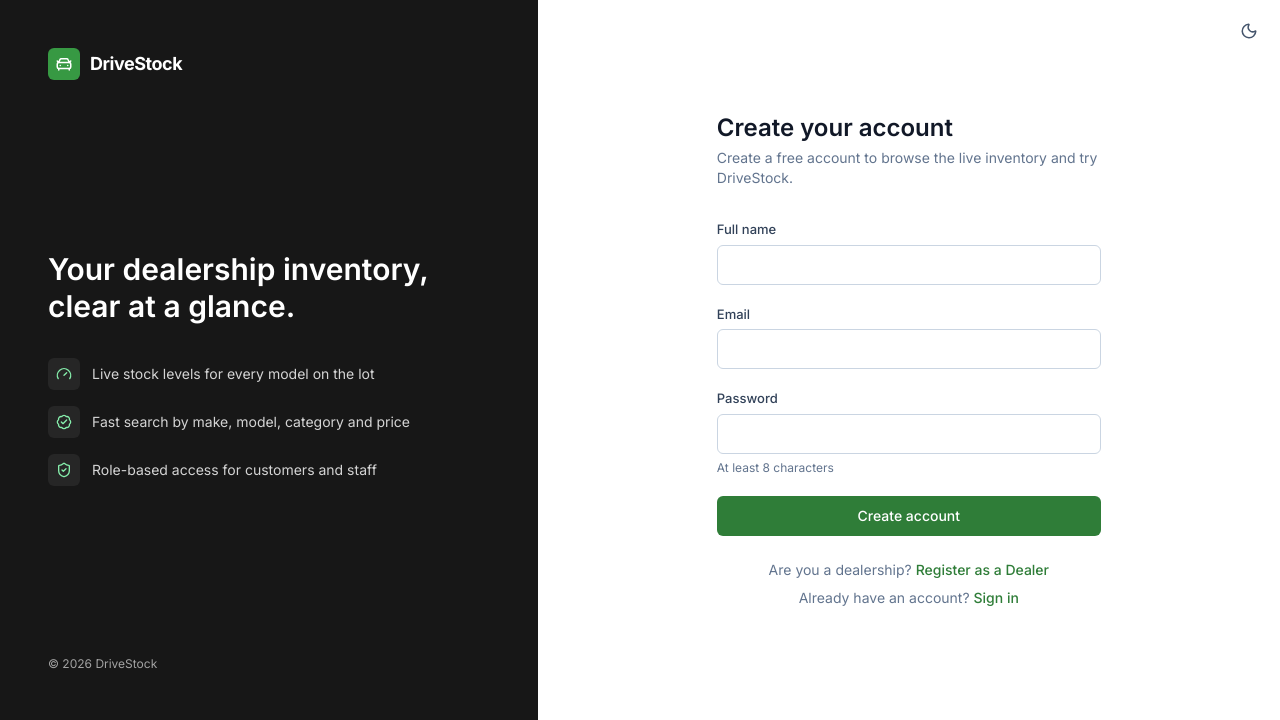
Test: authentication flow › validates registration input
The width and height of the screenshot is (1280, 720).
Type "not-an-email" into the field labelled "Email". click: (909, 349)
box: [717,329,1101,369]
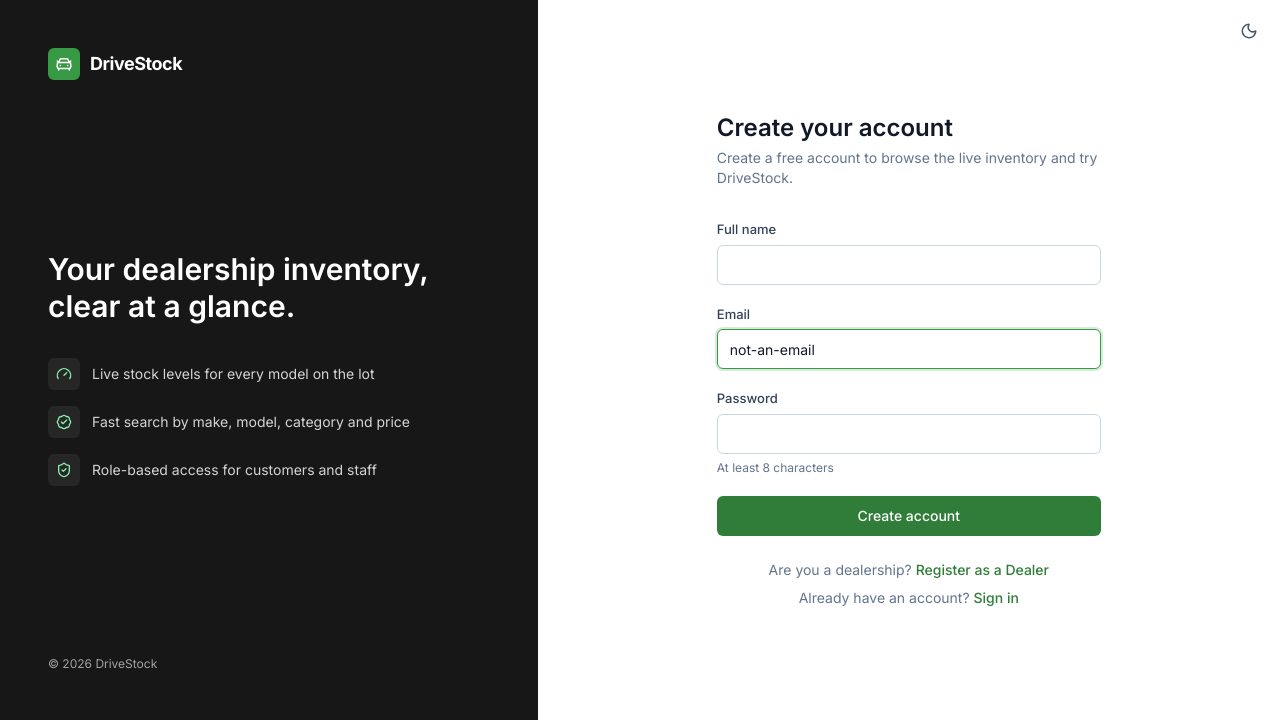
Type "short" into the password field labelled "Password". click: (909, 434)
box: [717,414,1101,454]
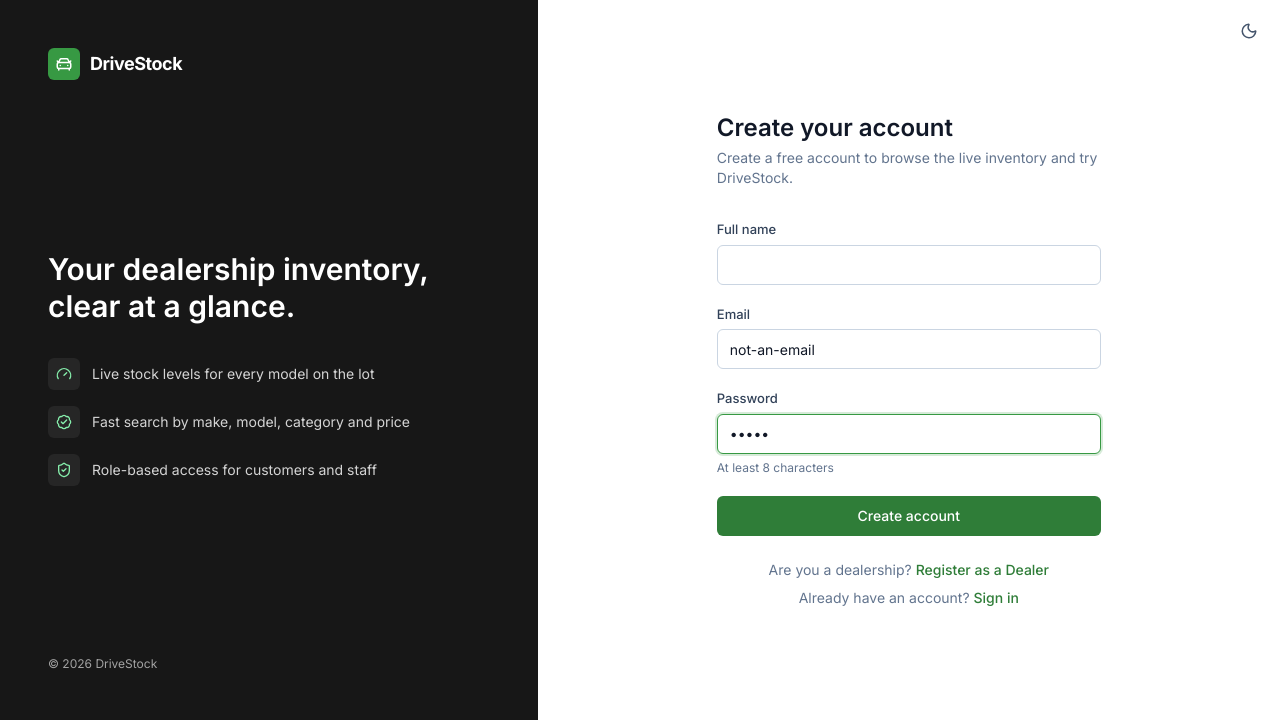
Click the button "Create account". click: (909, 516)
box: [717,496,1101,536]
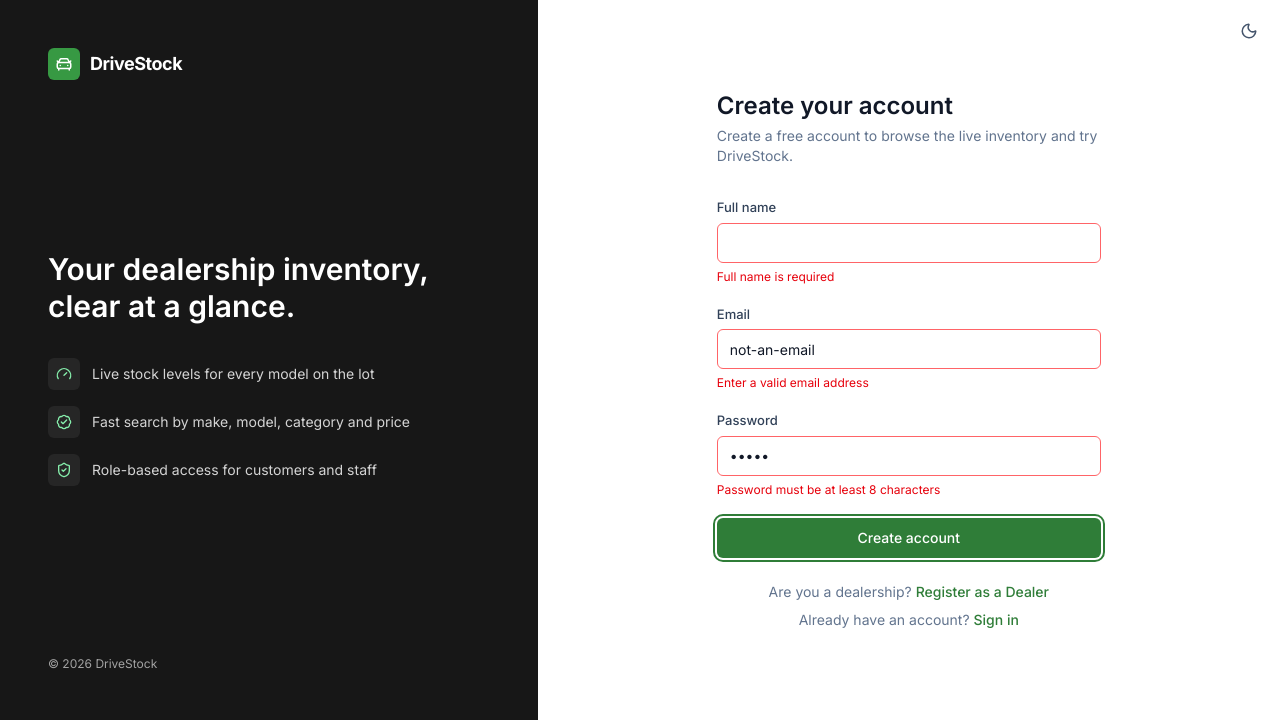
Expected: the text "Password must be at least 8 characters" is shown, [717,482,940,497]
Expected: the text "Full name is required" is shown, [717,269,834,284]
Expected: the text "Enter a valid email address" is shown, [717,375,869,390]
